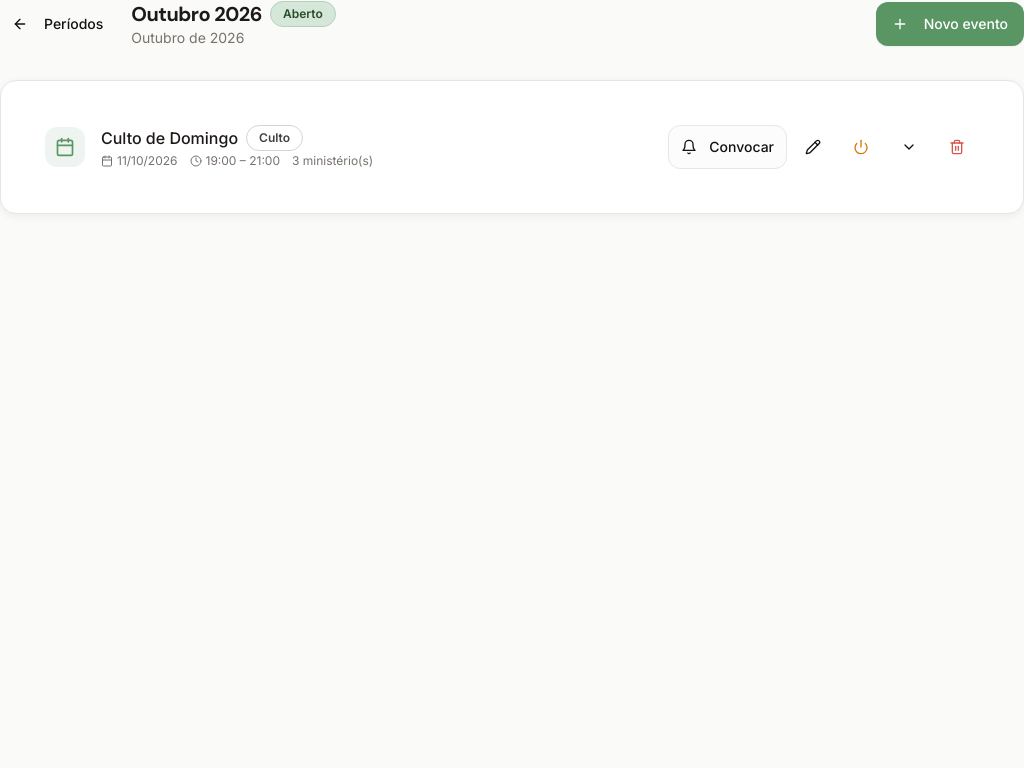
Test case: EscalasPeriodoDetalhe — "Selecionar todos" no modal Convocar › lista vazia (tudo já convocado): checkbox "Selecionar todos" fica desabilitado
Expected: the text "Culto de Domingo" is shown, [101,126,238,150]
Click the button "Convocar" at [728, 147], box [668,125,787,169]
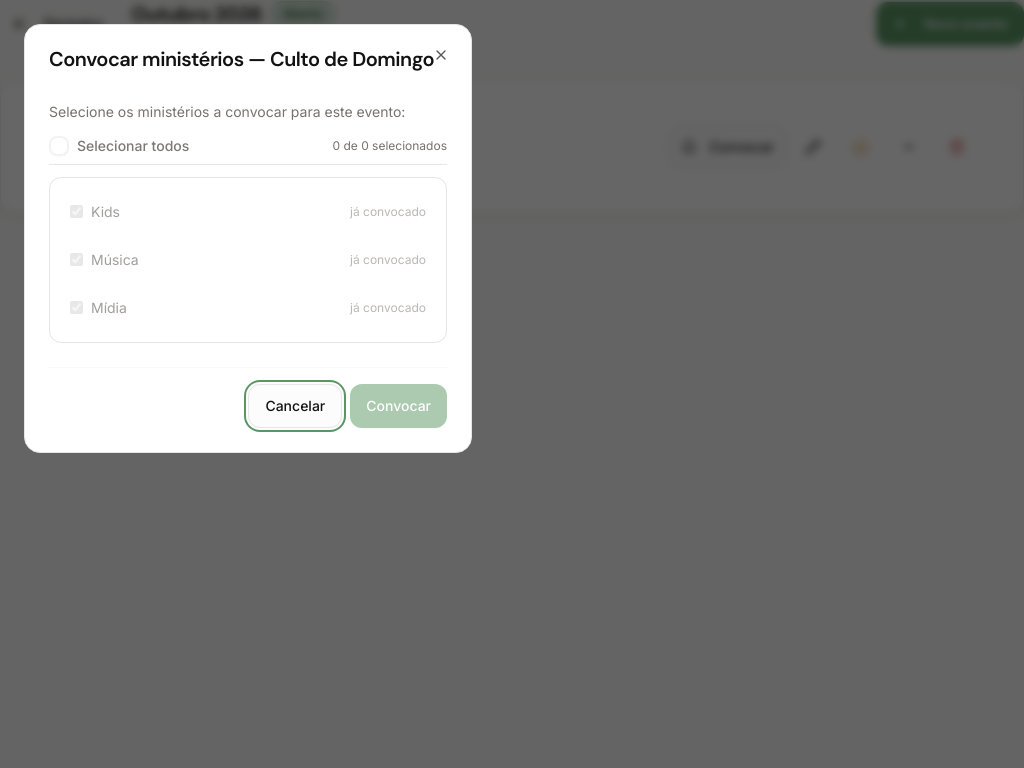
Result: the heading "Convocar ministérios — Culto de Domingo" is shown at [49,49,447,69]
Result: the text "0 de 0 selecionados" is shown at [332,138,447,154]
